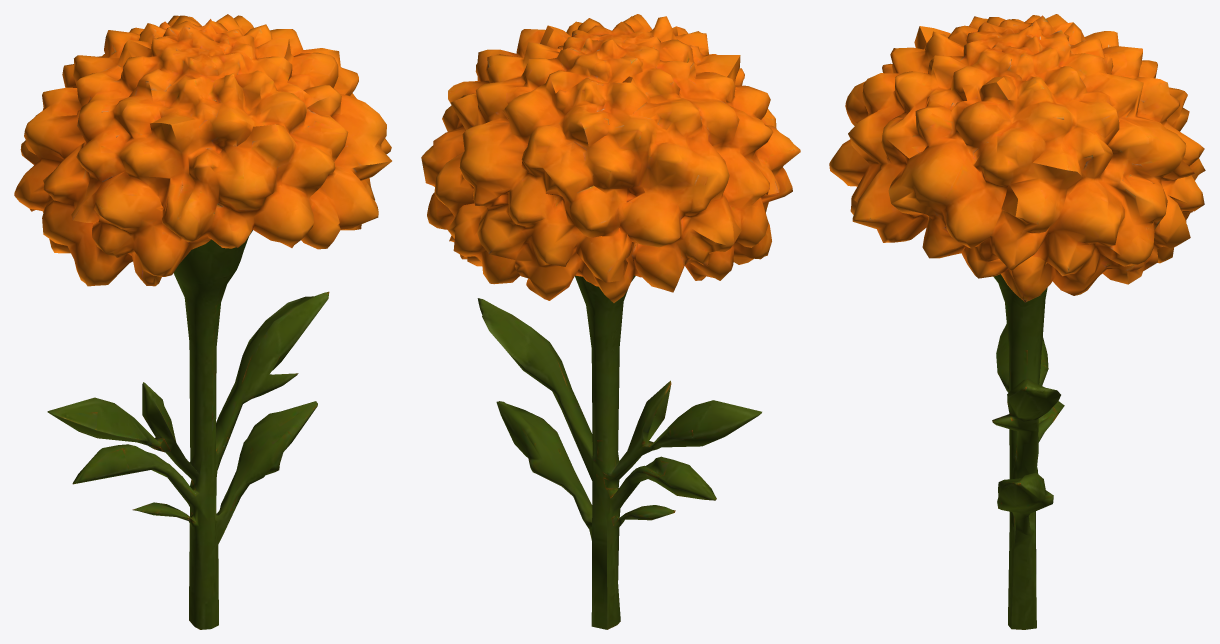
Rendered from flor-cempasuchil.glb.
3 views of the same model, side by side, from view 1: azimuth 30°, elevation 25°; view 2: azimuth 150°, elevation 25°; view 3: azimuth 270°, elevation 25° (orthographic).
Visible parts, largest first — view 1: Mesh_0; view 2: Mesh_0; view 3: Mesh_0.
Part boxes in pixels (left/top/right/bottom): Mesh_0: left=14, top=14, right=391, bottom=629; Mesh_0: left=421, top=14, right=800, bottom=629; Mesh_0: left=829, top=14, right=1205, bottom=629.
Size of the model in its own units: 1.07 by 1.9 by 1.08.
1 material, 1 textured.
